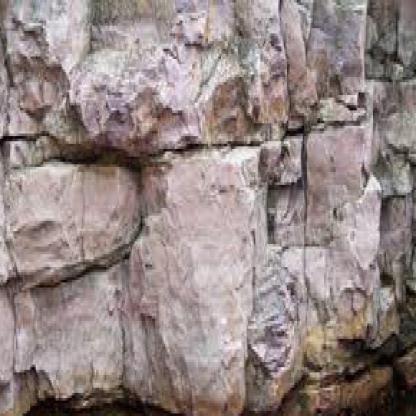Metamorphic_Quartize: (124, 134, 296, 414)
